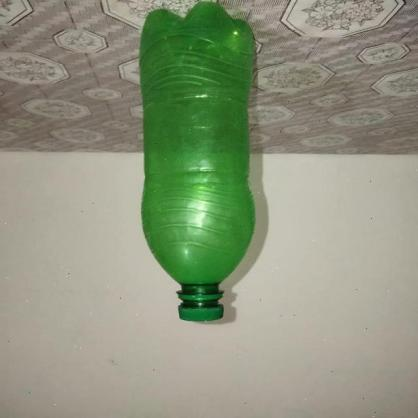bottle: (138, 1, 258, 319)
cap: (176, 293, 226, 321)
